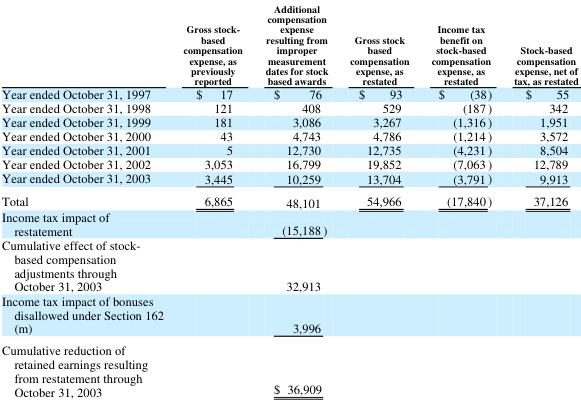table: (1, 1, 577, 399)
table column: (1, 1, 172, 399), (253, 1, 338, 399), (419, 1, 502, 399), (172, 1, 253, 399), (338, 1, 419, 399), (502, 1, 577, 399)
table column header: (1, 1, 577, 86)
table row: (1, 1, 577, 86), (1, 338, 577, 399), (1, 236, 577, 292), (1, 292, 577, 338), (1, 208, 577, 236), (1, 188, 577, 208), (1, 170, 577, 188), (1, 86, 577, 100), (1, 100, 577, 114), (1, 114, 577, 128), (1, 128, 577, 142), (1, 142, 577, 156), (1, 156, 577, 170)
